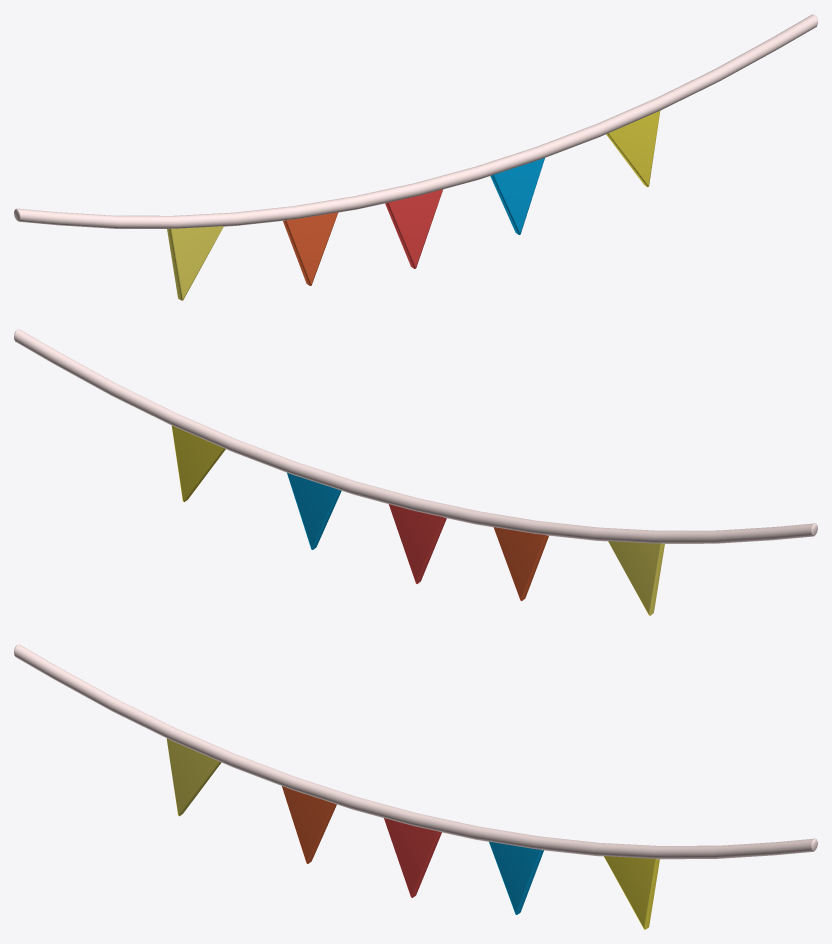
The model's file is Town_14_Flags_2.glb.
3 views of the same model, one above another, from view 1: azimuth 30°, elevation 25°; view 2: azimuth 150°, elevation 25°; view 3: azimuth 330°, elevation 25° (orthographic).
Visible parts, largest first — view 1: Town_14_Flags_2; view 2: Town_14_Flags_2; view 3: Town_14_Flags_2.
Boxes of the visible parts, left/top/right/bottom form: Town_14_Flags_2: left=14, top=14, right=817, bottom=300; Town_14_Flags_2: left=14, top=329, right=817, bottom=615; Town_14_Flags_2: left=14, top=644, right=817, bottom=929.
Size of the model in its own units: 4.5 by 0.8384 by 0.0665.
Materials: 1 (1 with a texture image).
